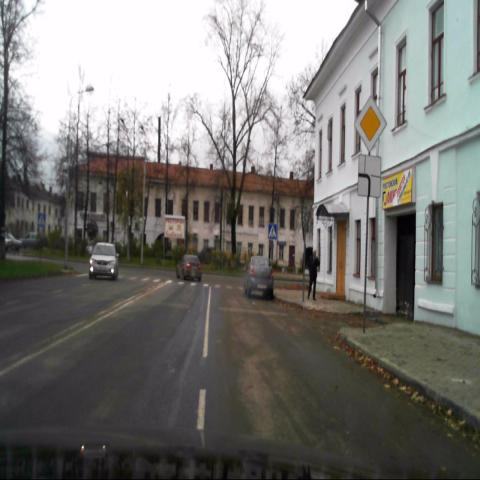8_13: (358, 154, 381, 200)
